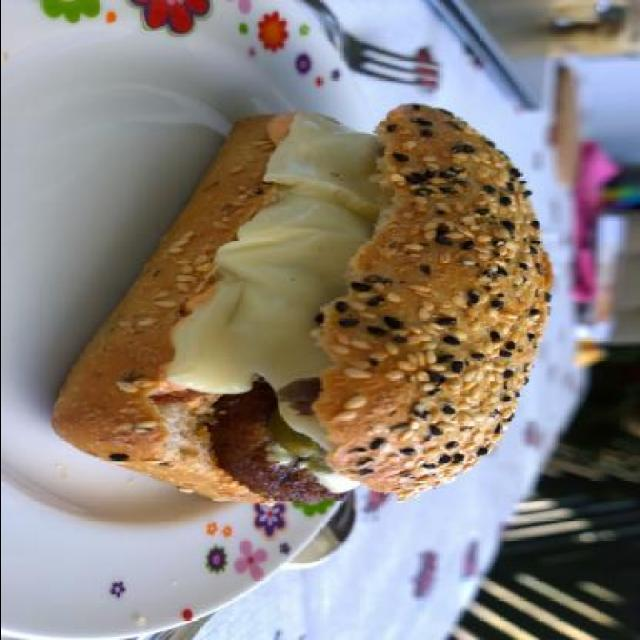Sandwich: (42, 102, 556, 506)
